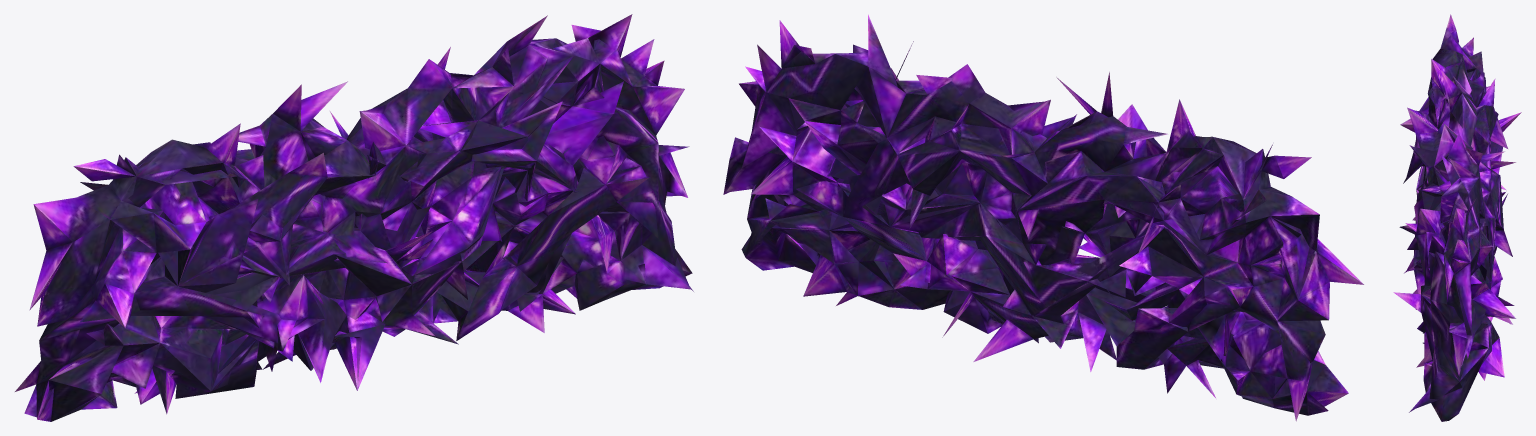
Rendered from hedge-4.glb.
3 renders of one model, left to right at view 1: azimuth 30°, elevation 25°; view 2: azimuth 150°, elevation 25°; view 3: azimuth 270°, elevation 25°, orthographic. The views are drawn at different scales.
Bounding box in the file's own units: 2 × 0.8582 × 0.4498.
Materials: 1 (1 with a texture image).
